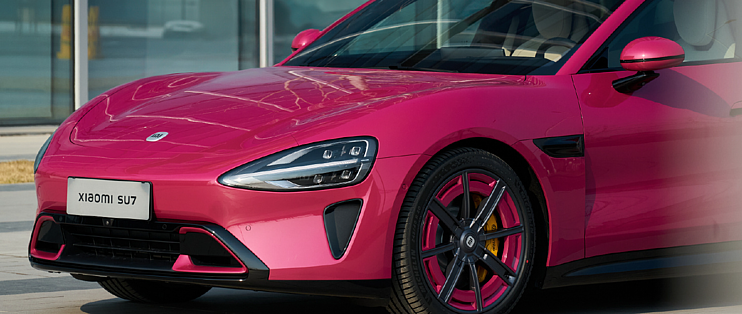other: (28, 2, 742, 314)
